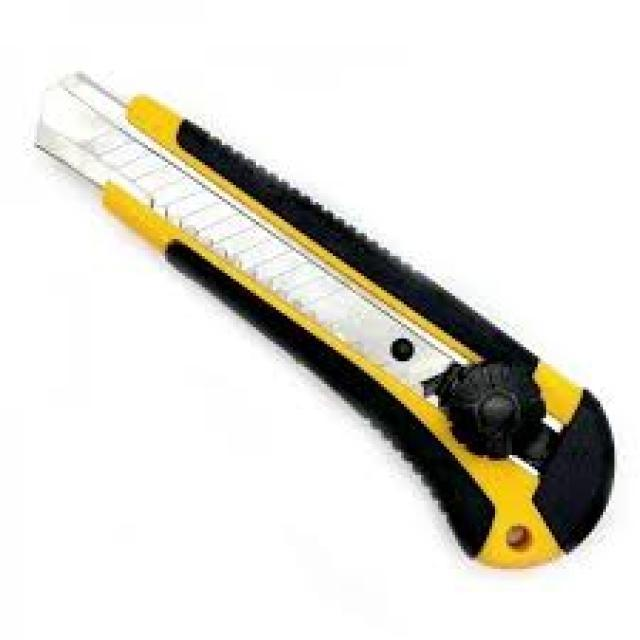cutter: (29, 50, 630, 579)
